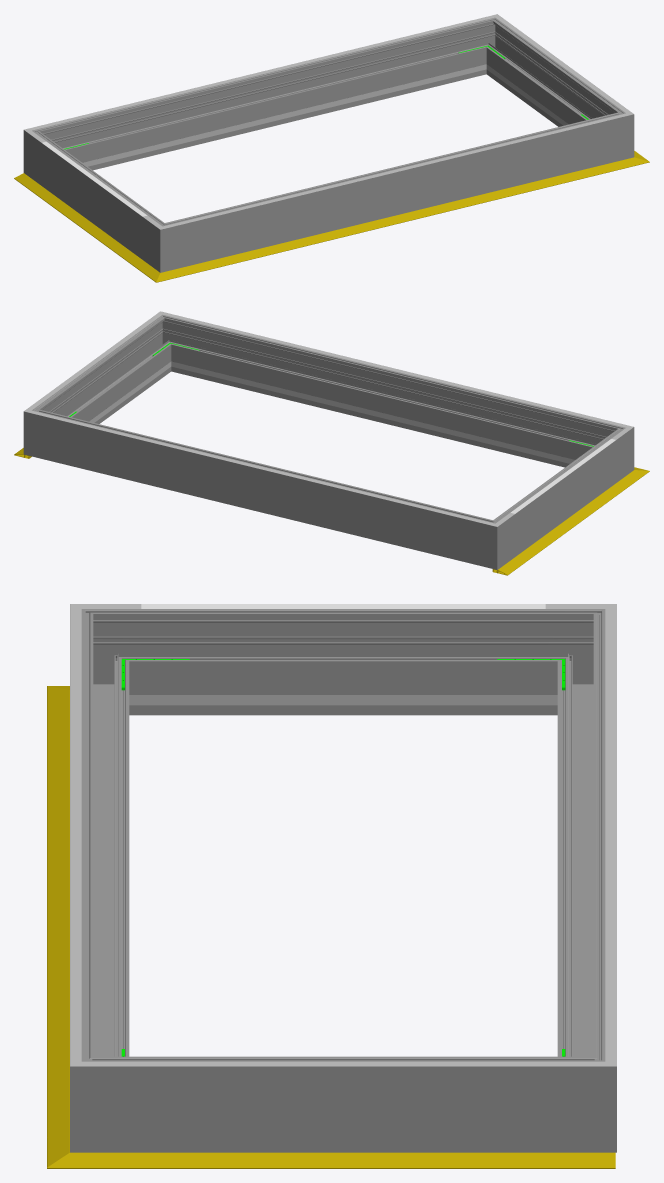
3 views of the same model, one above another, from view 1: azimuth 30°, elevation 25°; view 2: azimuth 150°, elevation 25°; view 3: azimuth 270°, elevation 25° (orthographic). The views are drawn at different scales.
Visible parts, largest first — view 1: 3DGeom-276, 3DGeom-298, 3DGeom-297, 3DGeom-268, 3DGeom-28, 3DGeom-270, 3DGeom-244, 3DGeom-38, 3DGeom-290, 3DGeom-316, 3DGeom-304, 3DGeom-284 (+4 smaller); view 2: 3DGeom-298, 3DGeom-276, 3DGeom-297, 3DGeom-268, 3DGeom-278, 3DGeom-239, 3DGeom-38, 3DGeom-284, 3DGeom-304, 3DGeom-316, 3DGeom-290, 3DGeom-270 (+2 smaller); view 3: 3DGeom-268, 3DGeom-297, 3DGeom-298, 3DGeom-276, 3DGeom-28, 3DGeom-30, 3DGeom-290, 3DGeom-284, 3DGeom-304, 3DGeom-316, 3DGeom-270, 3DGeom-278 (+4 smaller).
Part boxes in pixels (x1=…): 3DGeom-276: x1=57, y1=24, x2=481, y2=170; 3DGeom-298: x1=185, y1=117, x2=603, y2=265; 3DGeom-297: x1=489, y1=28, x2=611, y2=126; 3DGeom-268: x1=41, y1=140, x2=152, y2=259; 3DGeom-28: x1=181, y1=162, x2=618, y2=275; 3DGeom-270: x1=142, y1=214, x2=191, y2=272; 3DGeom-244: x1=94, y1=71, x2=456, y2=164; 3DGeom-38: x1=14, y1=173, x2=147, y2=269; 3DGeom-290: x1=598, y1=102, x2=634, y2=164; 3DGeom-316: x1=189, y1=119, x2=602, y2=222; 3DGeom-304: x1=55, y1=22, x2=468, y2=124; 3DGeom-284: x1=469, y1=14, x2=509, y2=76; 3DGeom-298: x1=176, y1=321, x2=600, y2=467; 3DGeom-276: x1=54, y1=414, x2=471, y2=562; 3DGeom-297: x1=46, y1=325, x2=168, y2=423; 3DGeom-268: x1=505, y1=437, x2=616, y2=556; 3DGeom-278: x1=466, y1=511, x2=515, y2=569; 3DGeom-239: x1=201, y1=368, x2=563, y2=462; 3DGeom-38: x1=492, y1=479, x2=631, y2=575; 3DGeom-284: x1=23, y1=399, x2=59, y2=461; 3DGeom-304: x1=55, y1=417, x2=468, y2=519; 3DGeom-316: x1=189, y1=319, x2=602, y2=421; 3DGeom-290: x1=147, y1=312, x2=188, y2=373; 3DGeom-270: x1=588, y1=421, x2=634, y2=482; 3DGeom-268: x1=141, y1=609, x2=545, y2=715; 3DGeom-297: x1=141, y1=1056, x2=545, y2=1152; 3DGeom-298: x1=70, y1=634, x2=129, y2=1056; 3DGeom-276: x1=557, y1=634, x2=605, y2=1056; 3DGeom-28: x1=47, y1=710, x2=69, y2=1137; 3DGeom-30: x1=118, y1=1152, x2=615, y2=1168; 3DGeom-290: x1=70, y1=1036, x2=141, y2=1152; 3DGeom-284: x1=545, y1=1036, x2=616, y2=1152; 3DGeom-304: x1=605, y1=634, x2=616, y2=1036; 3DGeom-316: x1=70, y1=634, x2=81, y2=1036; 3DGeom-270: x1=70, y1=604, x2=141, y2=715; 3DGeom-278: x1=545, y1=609, x2=605, y2=715.
Bounding box in the file's own units: 2.44 × 0.2195 × 1.22.
